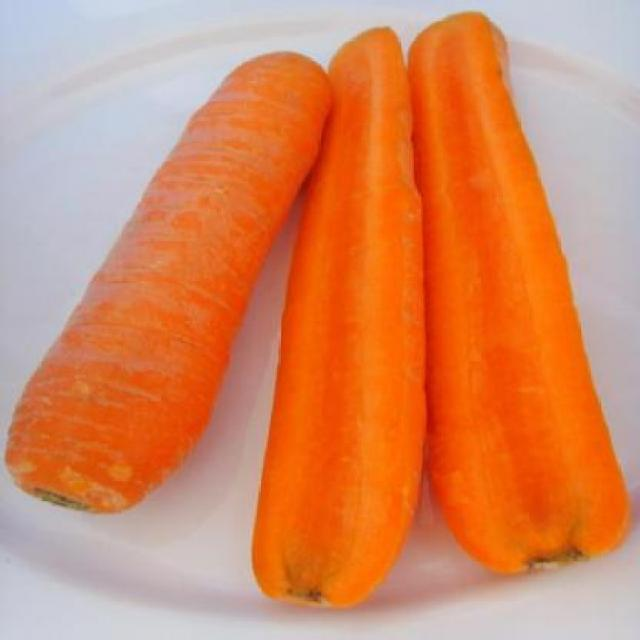carrot: (1, 42, 344, 518), (417, 10, 631, 570), (252, 19, 425, 613)
